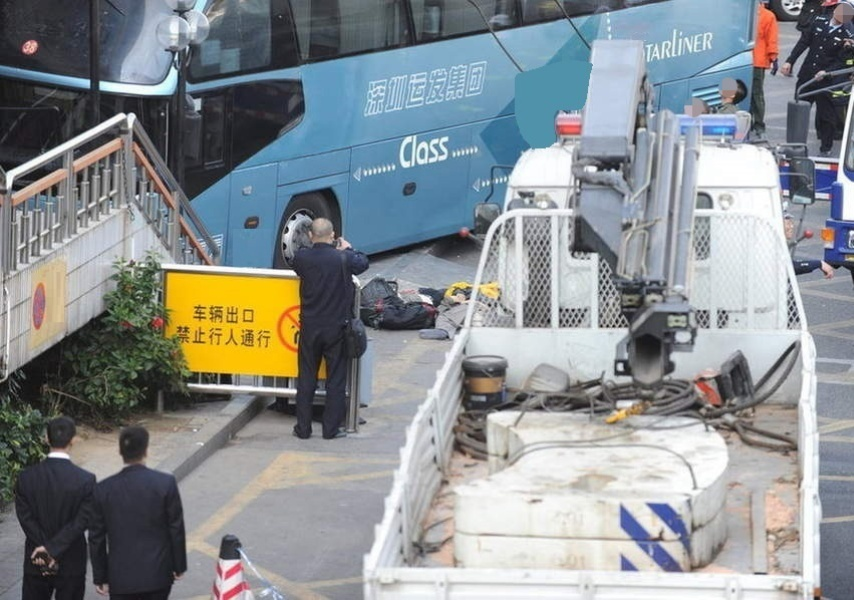text: (369, 60, 384, 117), (385, 60, 400, 117), (401, 60, 416, 117), (417, 60, 432, 117), (433, 60, 448, 117), (449, 60, 464, 117), (465, 60, 480, 117), (657, 22, 672, 63), (673, 22, 688, 63), (689, 22, 704, 63), (401, 131, 416, 171), (417, 131, 432, 171), (433, 131, 448, 171), (642, 22, 656, 63), (705, 22, 718, 63), (177, 324, 192, 352), (193, 324, 208, 352), (209, 324, 224, 352), (225, 324, 240, 352), (241, 324, 256, 352), (257, 324, 272, 352), (481, 60, 488, 117), (241, 304, 257, 326), (193, 304, 208, 326), (209, 304, 224, 326), (225, 304, 240, 326), (449, 131, 454, 171), (397, 131, 400, 171), (367, 60, 368, 117)
